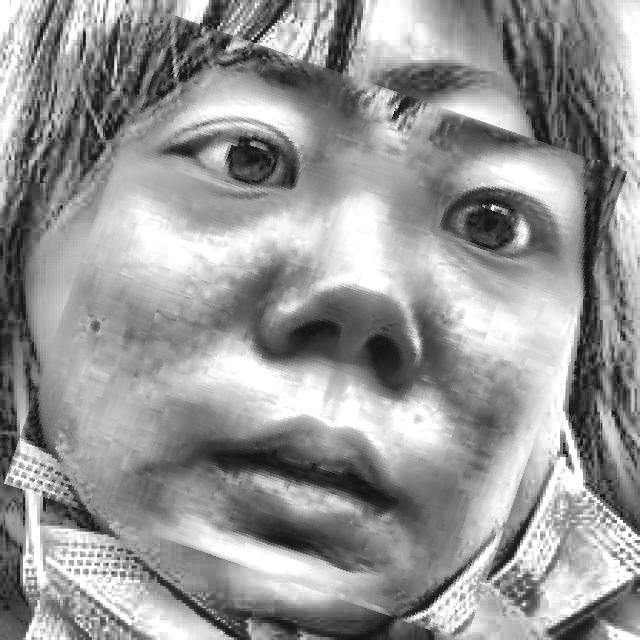fear: (38, 46, 594, 610)
